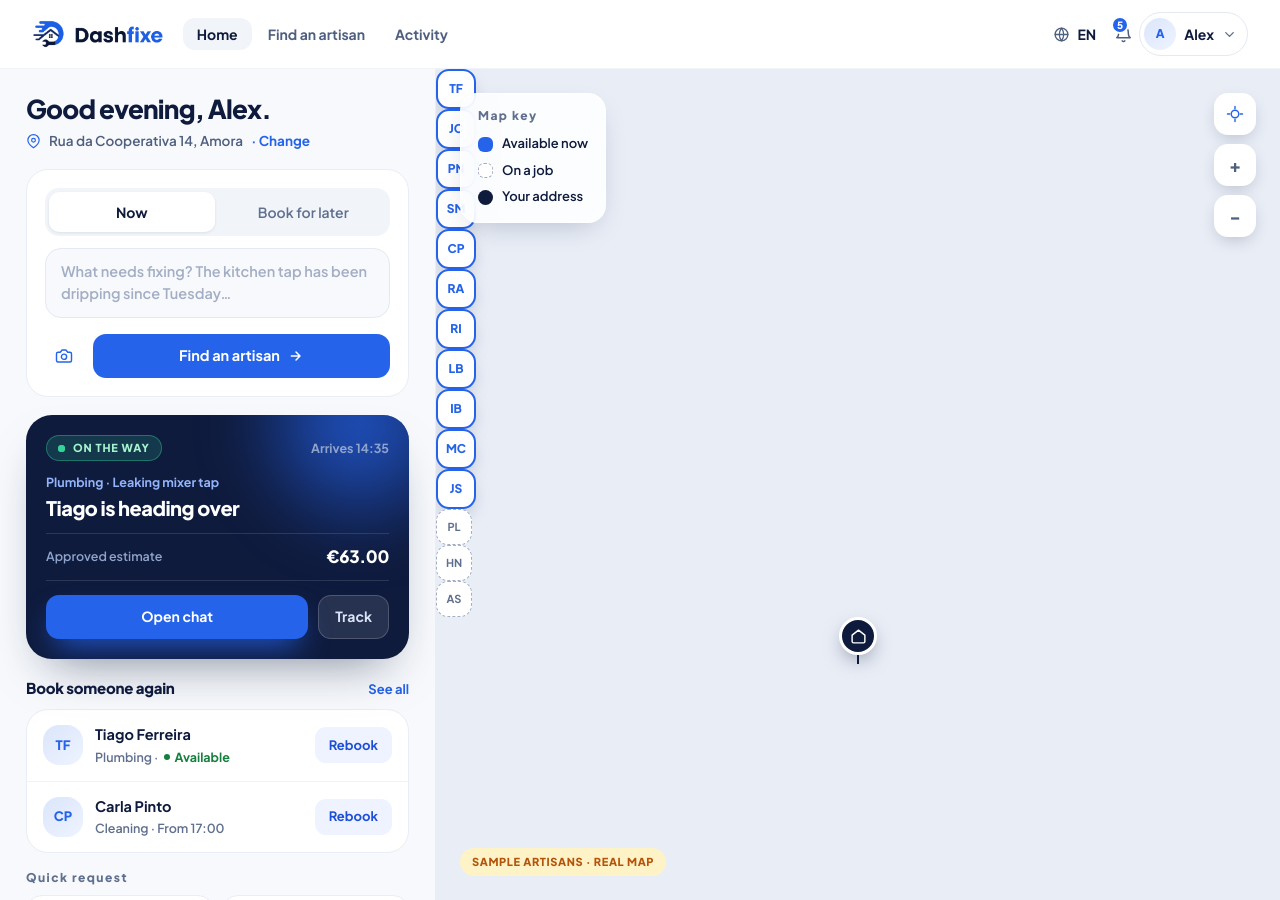
Test: the signed-in app home (map-first, ARCHITECTURE.md rev 1.1) › opens the search with an artisan when a map pin is tapped
Click the button with aria-label "Marta Cunha".
click(456, 449)  # box [436, 429, 476, 469]
(page scrolled)
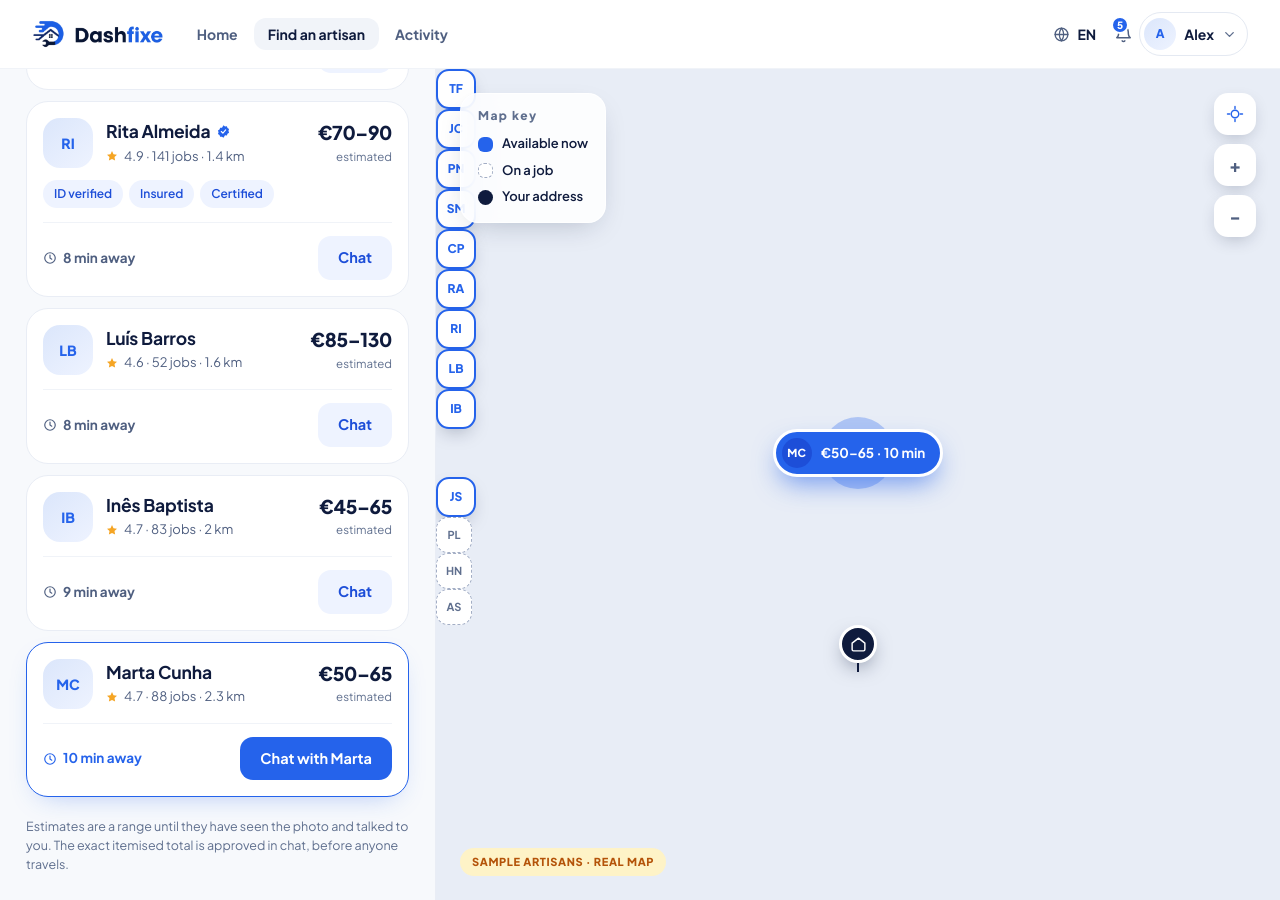
Expected: the button "Chat with Marta" is shown, [240, 737, 392, 780]
